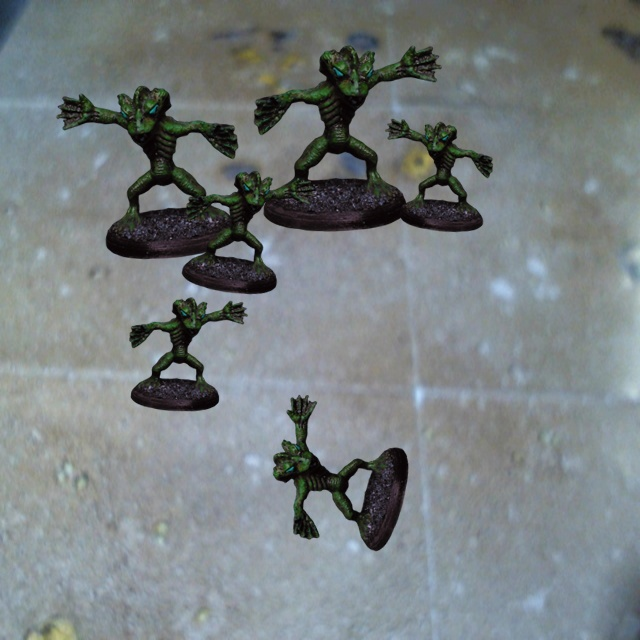pieza_juego: (254, 45, 441, 231), (56, 86, 239, 258), (273, 395, 408, 550), (182, 171, 314, 293), (129, 297, 247, 410), (385, 119, 492, 231)
